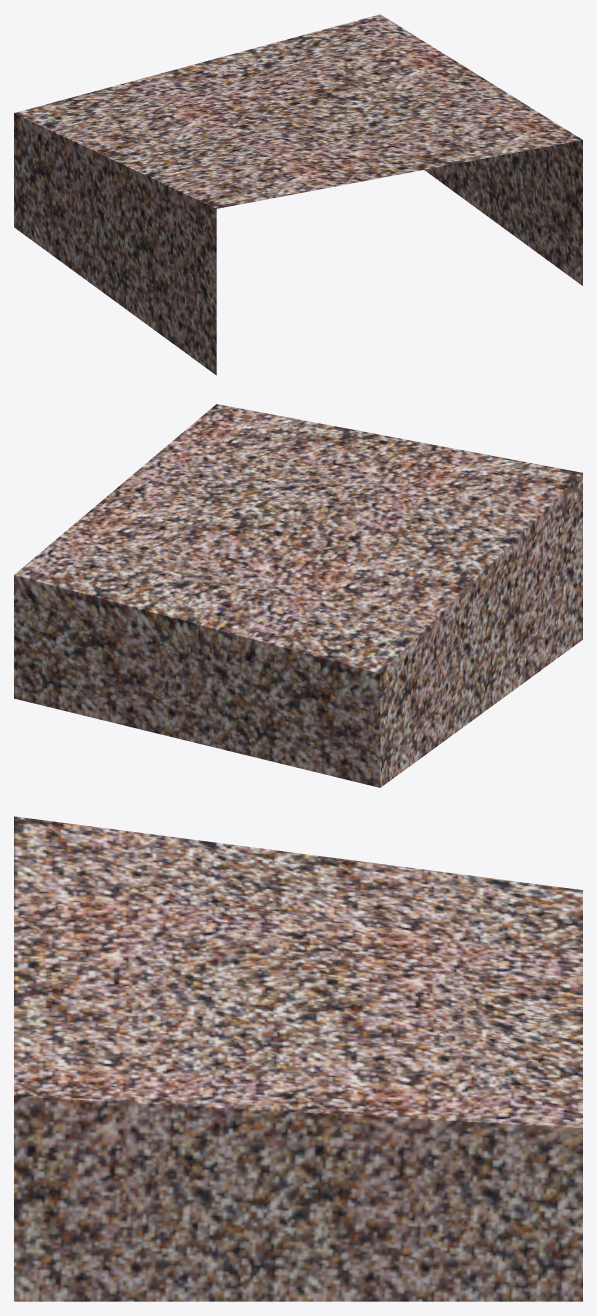
Rendered from SM_配餐区_糙米_01.fbx.
The picture shows the model from 3 angles, top to bottom: view 1: azimuth 30°, elevation 25°; view 2: azimuth 150°, elevation 25°; view 3: azimuth 270°, elevation 25°; orthographic projection. The views are drawn at different scales.
Visible parts, largest first — view 1: SM_配餐区_糙米_01; view 2: SM_配餐区_糙米_01; view 3: SM_配餐区_糙米_01.
Boxes of the visible parts, x1,y1,x2,y2 form: SM_配餐区_糙米_01: (14, 14, 582, 375); SM_配餐区_糙米_01: (14, 404, 582, 787); SM_配餐区_糙米_01: (14, 816, 582, 1301).
Bounding box in the file's own units: 287 × 125 × 275.
